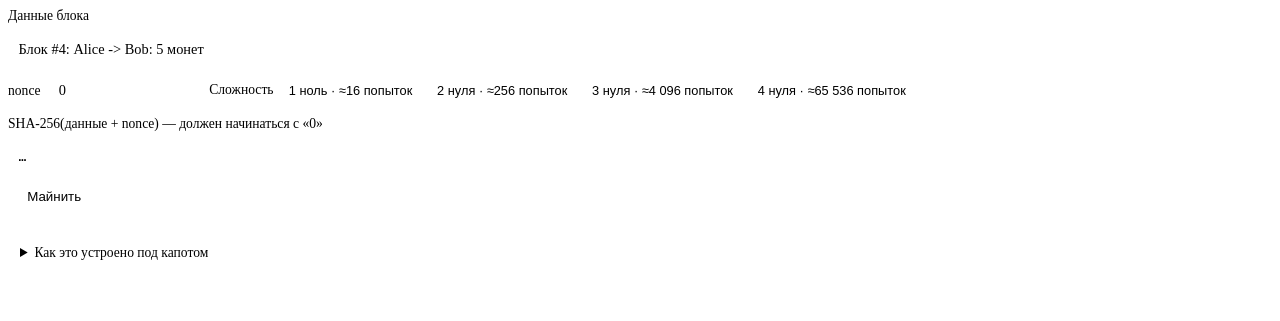
Test: without chapterId/trainerId a successful mine writes nothing to the store
Replace the text in the field labelled "Данные блока" with "test" at (640, 49), box [8,34,1272,65]
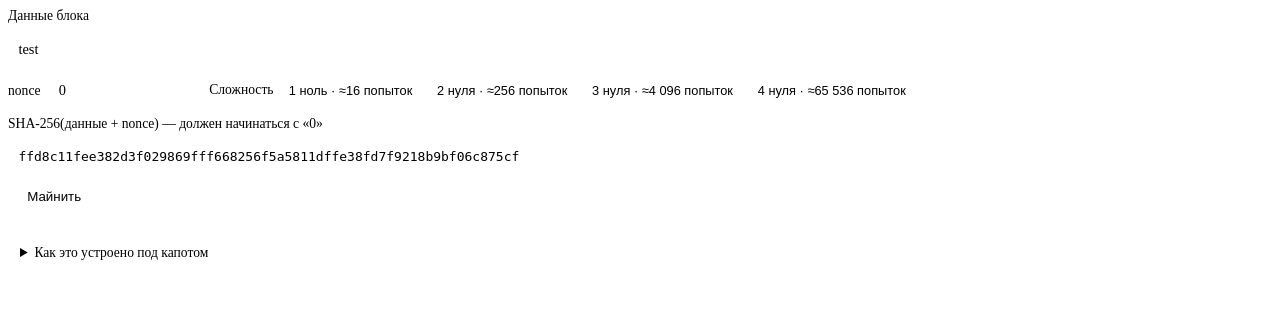
Expected: the text "ff" is shown, [18,149,519,164]
Click the button "Майнить" at (54, 196), box [8,182,100,211]
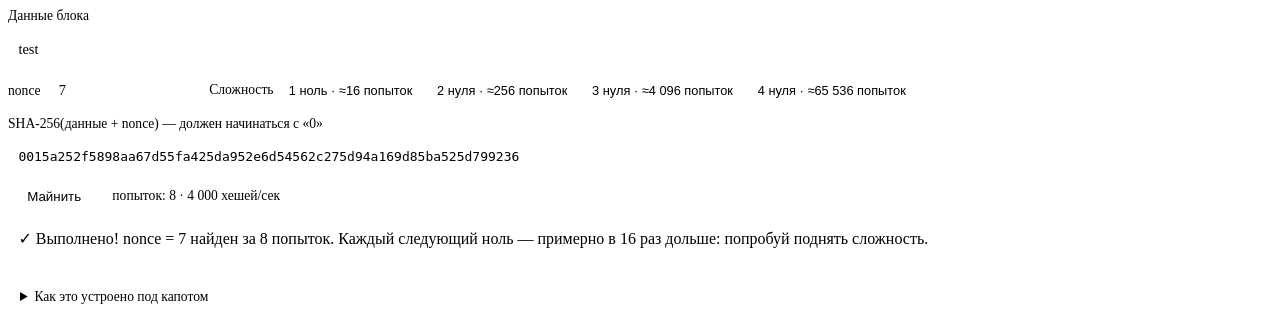
Expected: the text "Выполнено!" is shown, [18,230,178,247]
